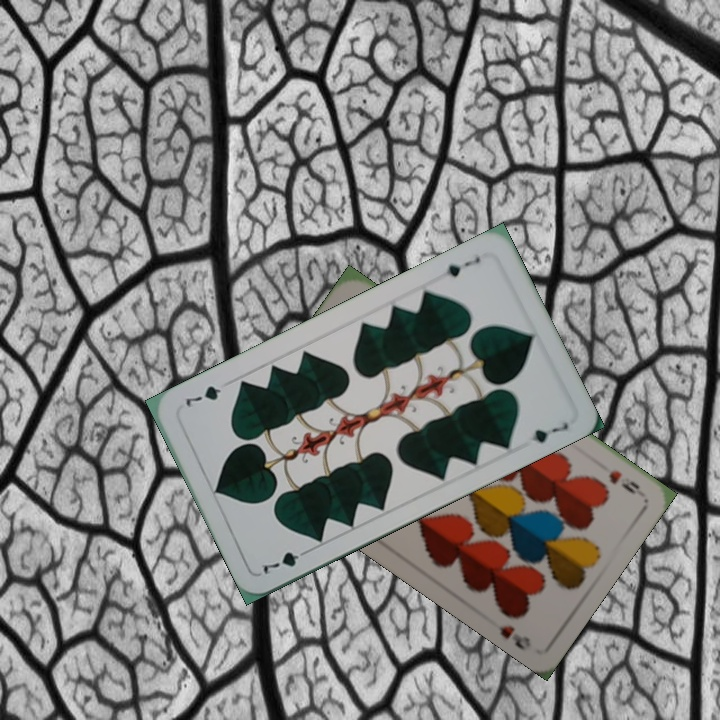G7: (256, 545, 313, 577), (441, 253, 483, 280)
H9: (604, 466, 646, 498)
